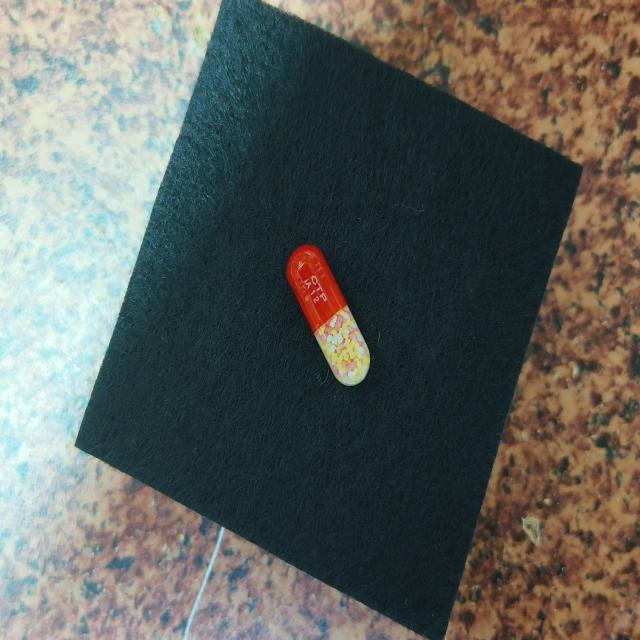Intact Capsule: (287, 244, 370, 386)
